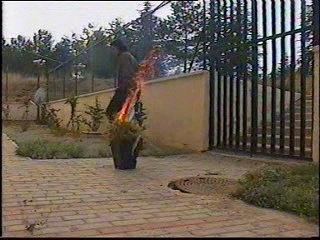smoke: (150, 35, 187, 80)
